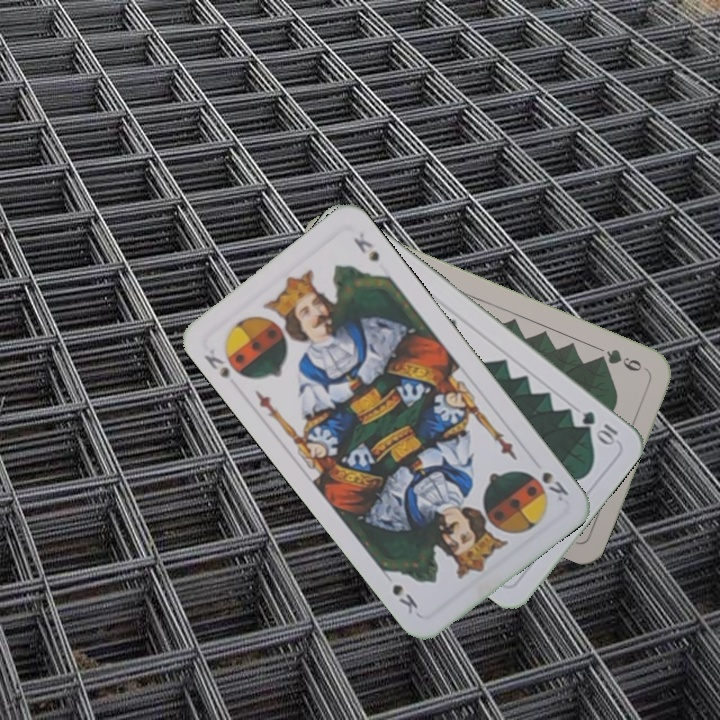G10: (578, 406, 621, 447)
G9: (592, 345, 645, 374)
SK: (537, 467, 572, 504), (200, 344, 232, 381)
